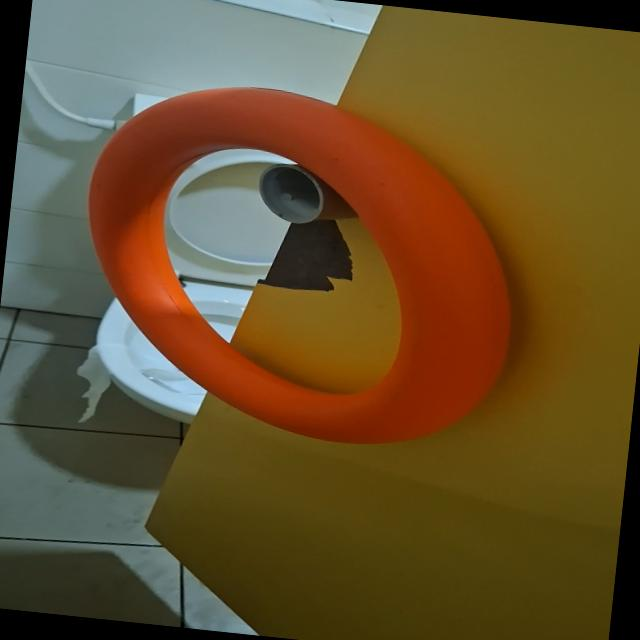note: (62, 68, 536, 460)
